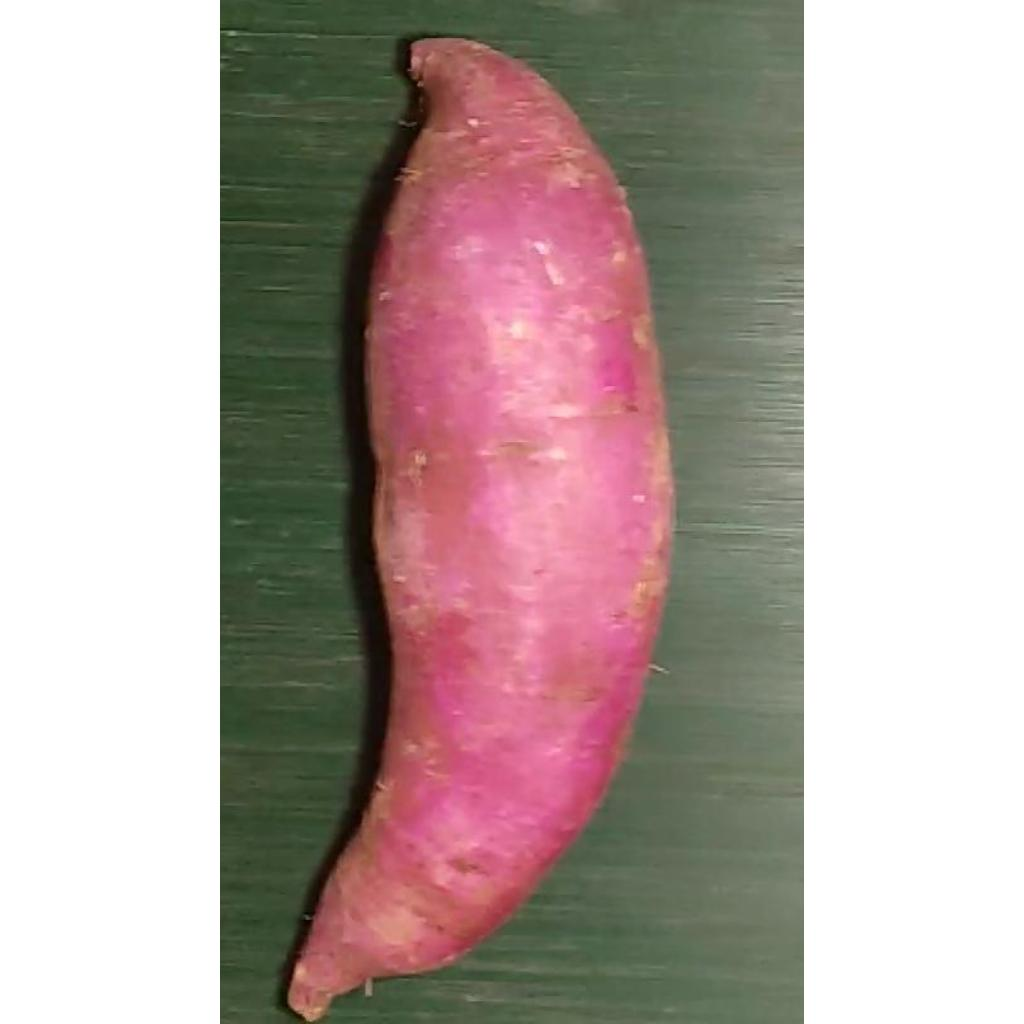Sweet Potato: (282, 39, 671, 1024)
